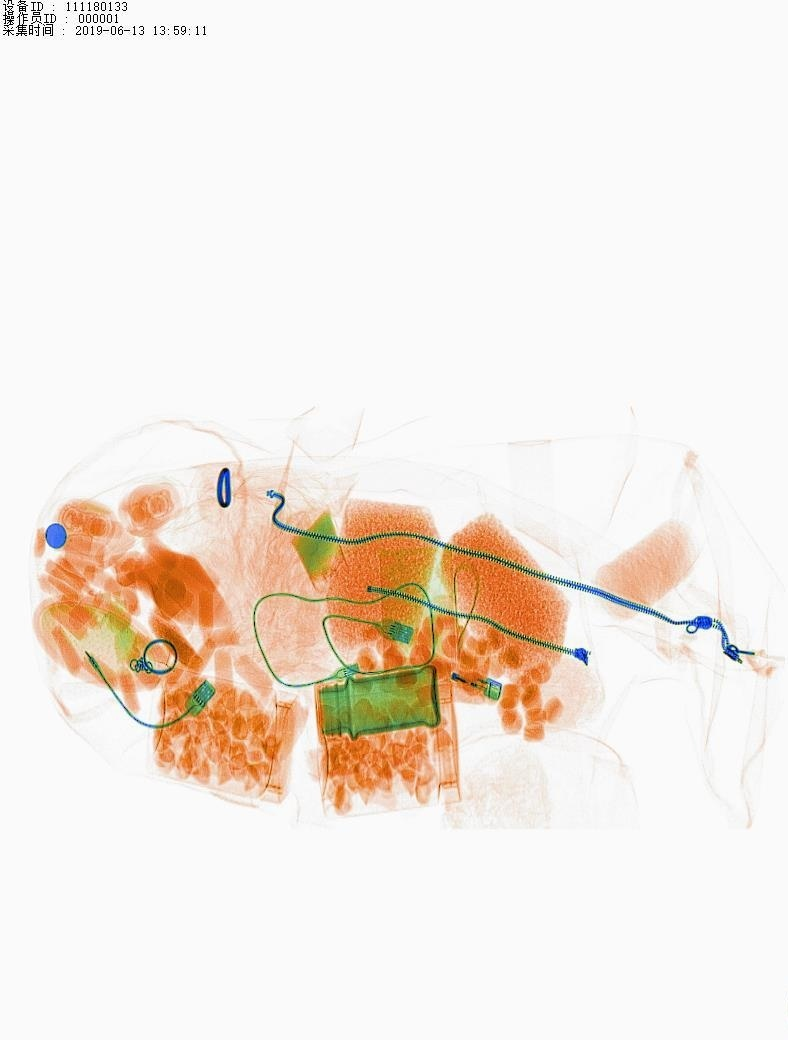NonmetallicFire: (421, 652, 525, 706)
